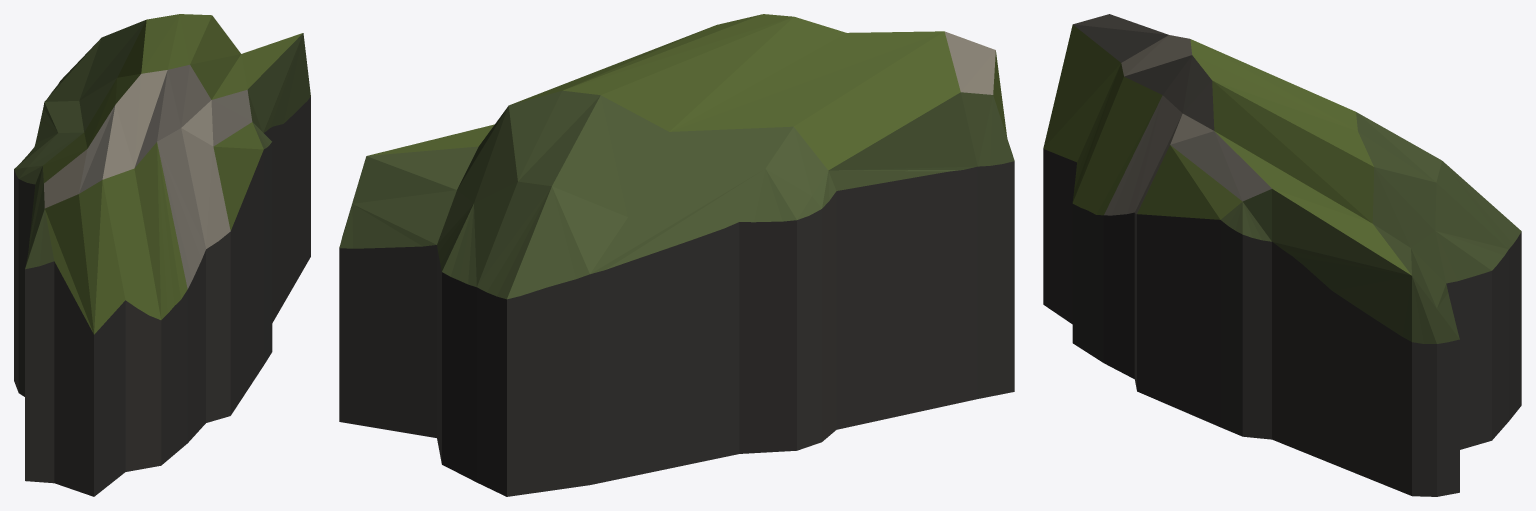
Rendered from cliff_sections_10c_crown.glb.
The picture shows the model from 3 angles, left to right: view 1: azimuth 30°, elevation 25°; view 2: azimuth 150°, elevation 25°; view 3: azimuth 270°, elevation 25°; orthographic projection. The views are drawn at different scales.
Visible parts, largest first — view 1: Front columns study; view 2: Front columns study; view 3: Front columns study.
Part boxes in pixels (bbox=[...]): Front columns study: bbox=[14, 14, 310, 496]; Front columns study: bbox=[339, 14, 1014, 496]; Front columns study: bbox=[1043, 14, 1521, 496].
Bounding box in the file's own units: 134 × 97 × 130.
